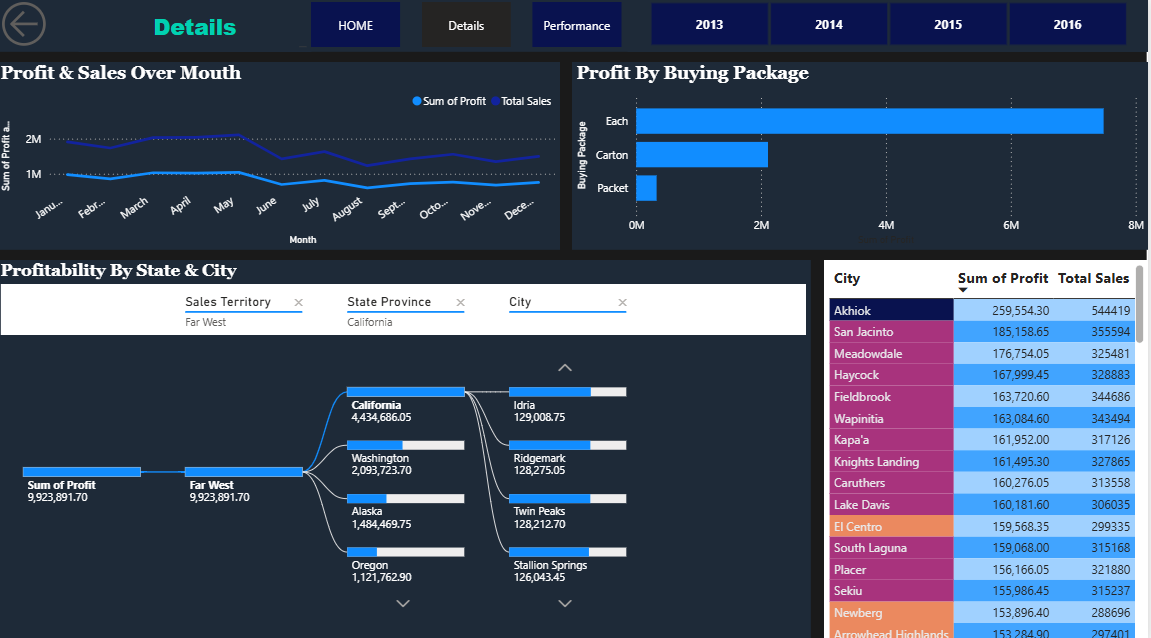

What the dashboard file says about the page in this screenshot:
{"tool":"powerbi","page":{"name":"Details","canvas":[1280,720],"ordinal":1},"visuals":[{"type":"shape","box":[0,0,1280,62],"z":0},{"type":"actionButton","box":[0,0,128,62],"z":1000},{"type":"lineChart","title":"Profit & Sales Over Mouth","fields":{"Y":["Sum(FactSale.Profit)","FactSale.Total Sales"],"Category":["DimDate.Date.Variation.Date Hierarchy.Month"]},"box":[0,73.3,626.7,208.3],"z":2000},{"type":"clusteredBarChart","title":"Profit By Buying Package","fields":{"Category":["DimStockItem.Buying Package"],"Y":["Sum(FactSale.Profit)"]},"box":[640,73.3,640,208.3],"z":3000},{"type":"decompositionTreeVisual","title":"Profitability By State & City","fields":{"ExplainBy":["DimCity.Sales Territory","DimCity.State Province","DimCity.City"],"Analyze":["Sum(FactSale.Profit)"]},"box":[0,293.3,905,426.7],"z":4000},{"type":"tableEx","fields":{"Values":["DimCity.City","Sum(FactSale.Profit)","FactSale.Total Sales"]},"box":[920,293.3,360,426.7],"z":5000},{"type":"slicer","fields":{"Values":["DimDate.Calendar Year"]},"box":[701.7,0,578.3,61.7],"z":6000},{"type":"textbox","title":"Details","box":[91.7,16.7,258.3,45],"z":7000},{"type":"pageNavigator","box":[350,6.7,346.7,50],"z":7001}]}

Visuals, with their boxes in screenshot pixels (x1, y1, x2, y2), scaled from the page's 1280x720 canvas onto the 1151x638 screenshot:
shape: box=[0, 0, 1150, 55]
actionButton: box=[0, 0, 115, 55]
"Profit & Sales Over Mouth" lineChart: box=[0, 65, 564, 250]
"Profit By Buying Package" clusteredBarChart: box=[576, 65, 1150, 250]
"Profitability By State & City" decompositionTreeVisual: box=[0, 260, 814, 637]
tableEx - DimCity.City x Sum(FactSale.Profit): box=[827, 260, 1150, 637]
slicer - DimDate.Calendar Year: box=[631, 0, 1150, 55]
"Details" textbox: box=[82, 15, 315, 55]
pageNavigator: box=[315, 6, 626, 50]
